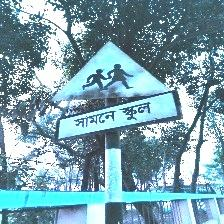School-in-front: (51, 41, 179, 141)
